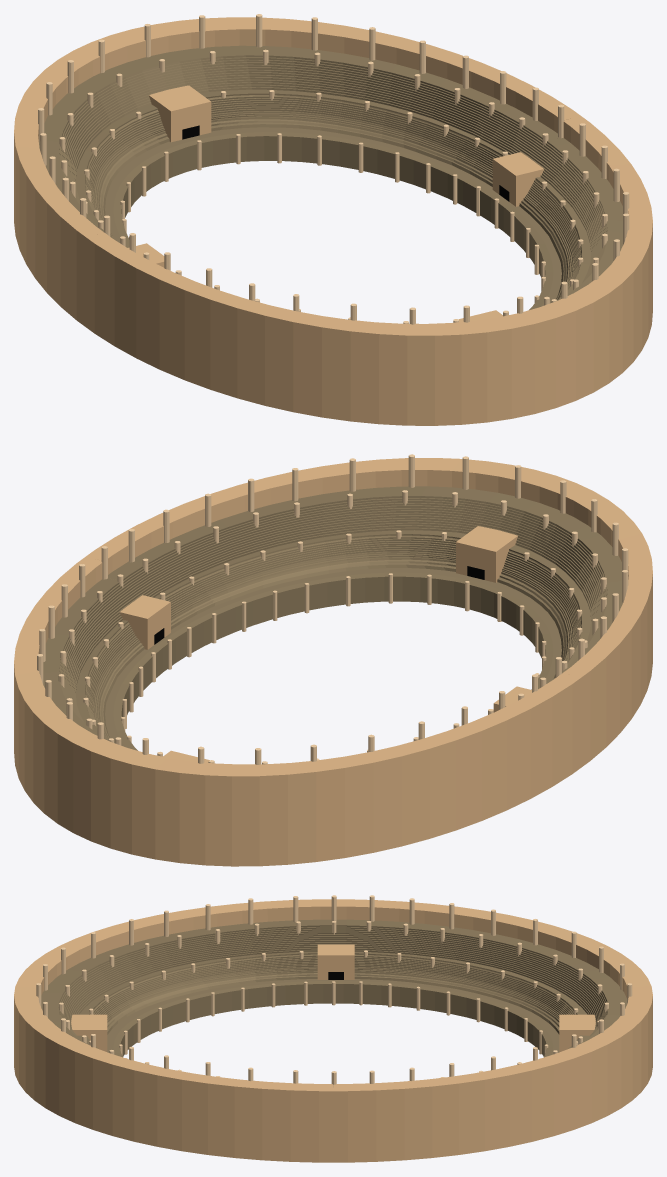
The model's file is ColiséeProto.fbx.
The picture shows the model from 3 angles, top to bottom: view 1: azimuth 30°, elevation 25°; view 2: azimuth 150°, elevation 25°; view 3: azimuth 270°, elevation 25°; orthographic projection. The views are drawn at different scales.
Visible parts, largest first — view 1: Col.A.001, Cylinder.004; view 2: Col.A.001, Cylinder.004; view 3: Col.A.001, Cylinder.004.
Part boxes in pixels (x1,y1,x2,y2): Col.A.001: (14,17,652,425); Cylinder.004: (38,14,629,324); Col.A.001: (14,458,652,866); Cylinder.004: (37,454,628,764); Col.A.001: (14,899,652,1162); Cylinder.004: (36,895,632,1087).
Bounding box in the file's own units: 1066 × 217 × 1500.
